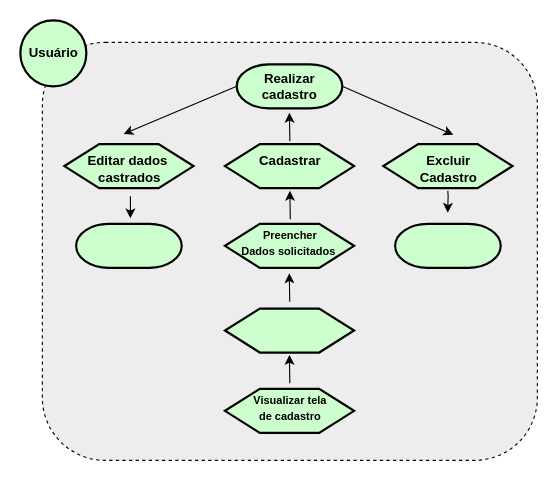
Some shapes in this 557 by 480 pixel diagram are drawn without their labels. The centre of each missing label's shape, as x and y in pixels:
"Interagir com a tela de cadastro" goes at [289,330].
"Realizar edição de cadastro" goes at [128,245].
"Realizar exclusão de cadastro" goes at [447,245].
